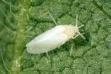whitefly: (26, 15, 84, 55)
